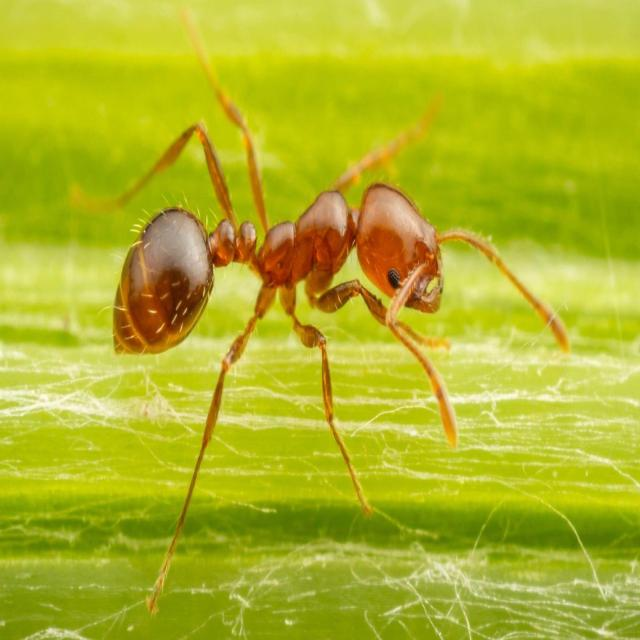ants: (106, 110, 450, 406)
